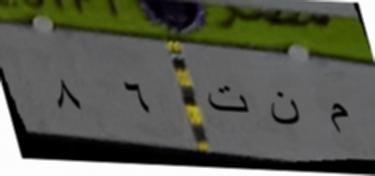6: (116, 74, 161, 127)
8: (49, 67, 86, 119)
meem: (320, 92, 354, 146)
noon: (260, 90, 308, 136)
taa: (203, 85, 253, 121)
